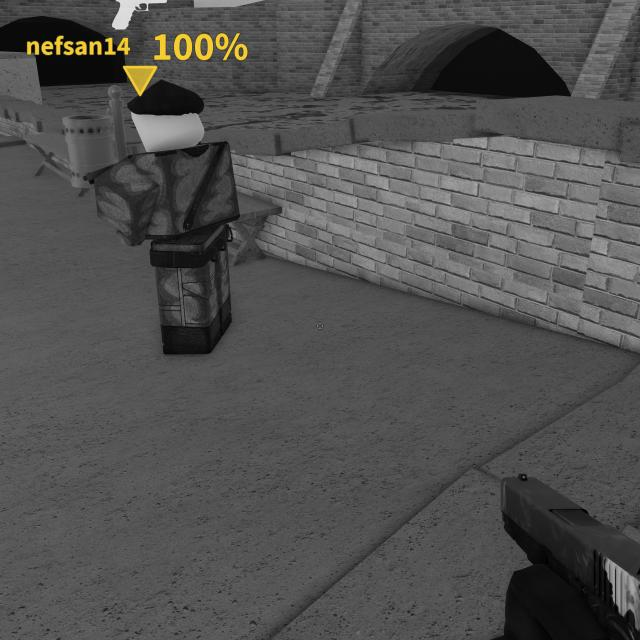Head: (130, 84, 202, 153)
Player: (88, 83, 241, 355)
